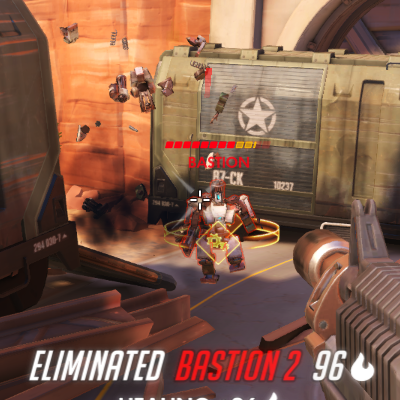hpbar: (164, 140, 271, 149)
